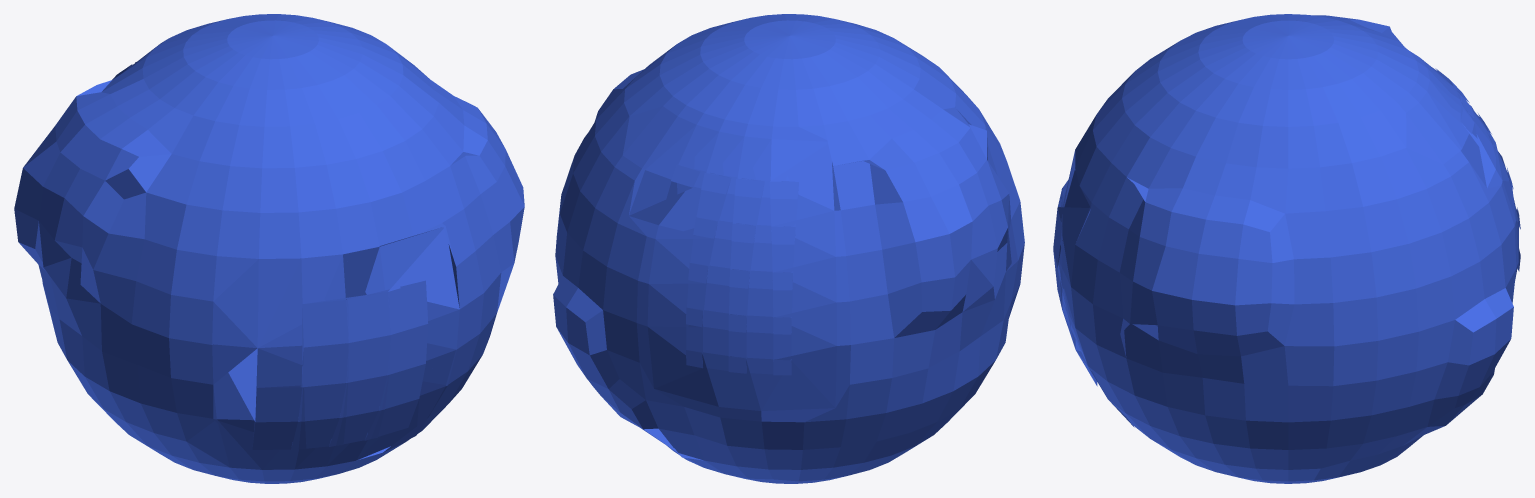
The model's file is dummyglobe.gltf.
3 renders of one model, left to right at view 1: azimuth 30°, elevation 25°; view 2: azimuth 150°, elevation 25°; view 3: azimuth 270°, elevation 25°, orthographic.
Visible parts, largest first — view 1: Sphere; view 2: Sphere; view 3: Sphere.
Part boxes in pixels (x1=…): Sphere: x1=14, y1=14, x2=524, y2=483; Sphere: x1=553, y1=14, x2=1024, y2=483; Sphere: x1=1053, y1=14, x2=1520, y2=483.
Bounding box in the file's own units: 2.11 × 2 × 1.99.
